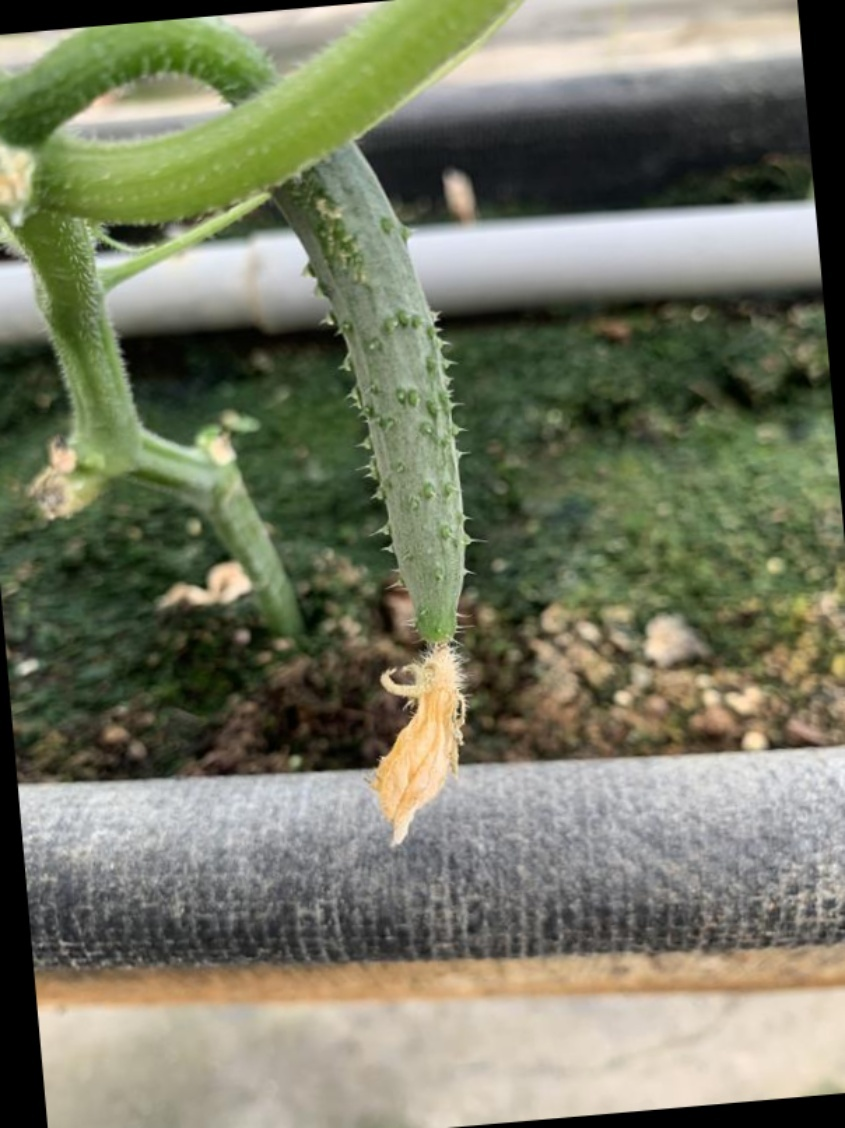bear: (281, 281, 534, 857)
growth: (276, 139, 522, 836)
